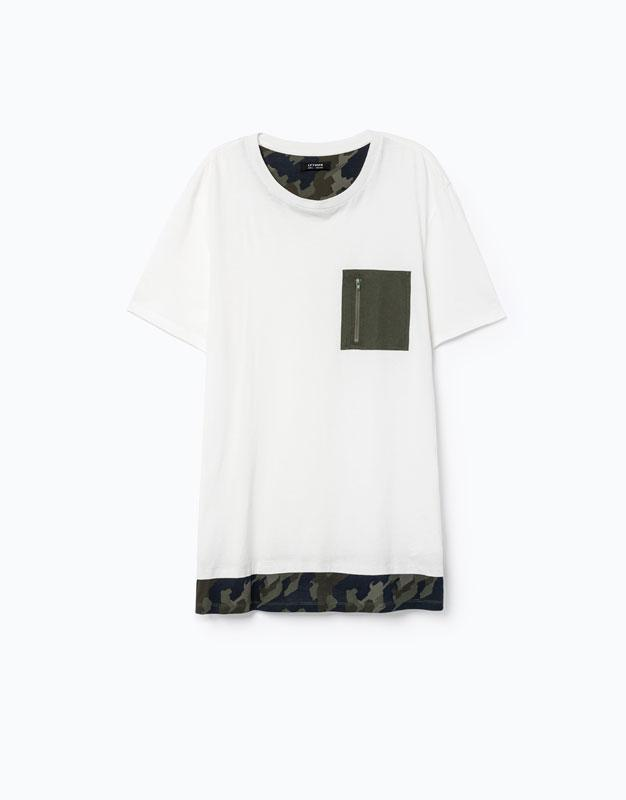teeshirt: (141, 112, 523, 663)
